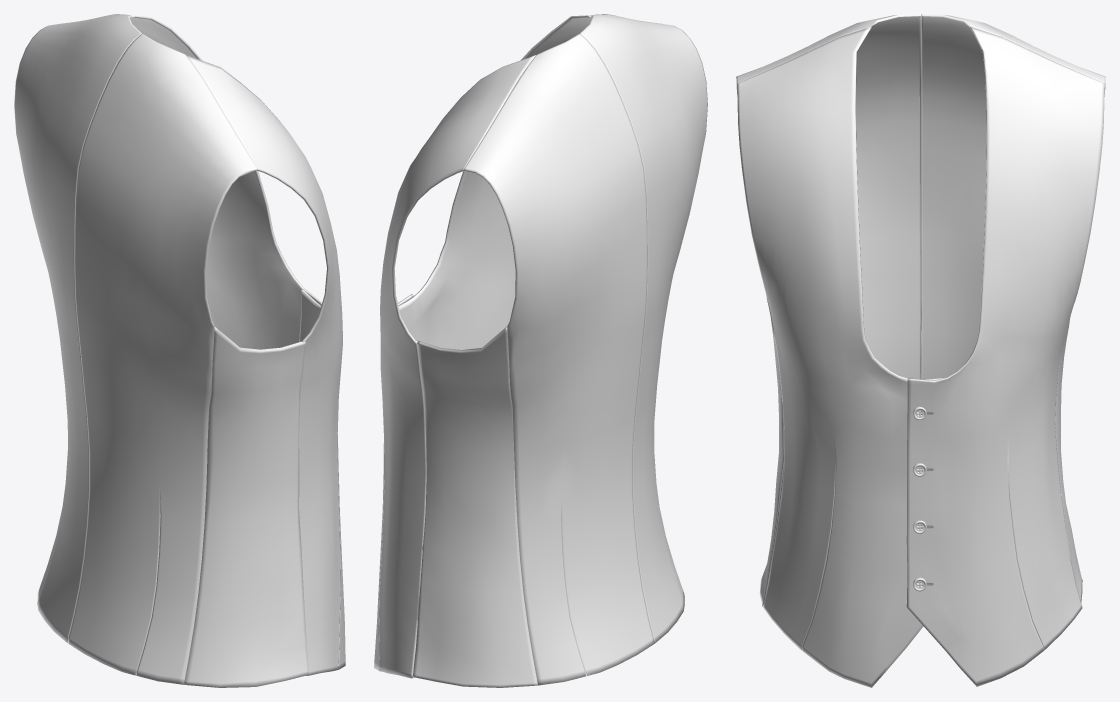
The model's file is single_breasted_4_buttons_horse_shoe_with_point_bottom.glb.
The picture shows the model from 3 angles, left to right: view 1: azimuth 30°, elevation 25°; view 2: azimuth 150°, elevation 25°; view 3: azimuth 270°, elevation 25°; orthographic projection. The views are drawn at different scales.
Visible parts, largest first — view 1: SM_Vest_Back_outside, SM_Vest_front_Sigle_4Button_Point; view 2: SM_Vest_Back_outside, SM_Vest_front_Sigle_4Button_Point; view 3: SM_Vest_front_Sigle_4Button_Point, SM_Vest_Back_outside, SM_Button_4.
Part boxes in pixels (left/top/right/bottom): SM_Vest_Back_outside: left=14, top=14, right=309, bottom=687; SM_Vest_front_Sigle_4Button_Point: left=130, top=15, right=345, bottom=675; SM_Vest_Back_outside: left=412, top=14, right=707, bottom=687; SM_Vest_front_Sigle_4Button_Point: left=374, top=15, right=592, bottom=678; SM_Vest_front_Sigle_4Button_Point: left=737, top=27, right=1104, bottom=687; SM_Vest_Back_outside: left=736, top=14, right=1105, bottom=606; SM_Button_4: left=913, top=406, right=933, bottom=591.
Size of the model in its own units: 1.55 by 3.79 by 2.12.
5 materials, 1 textured.
